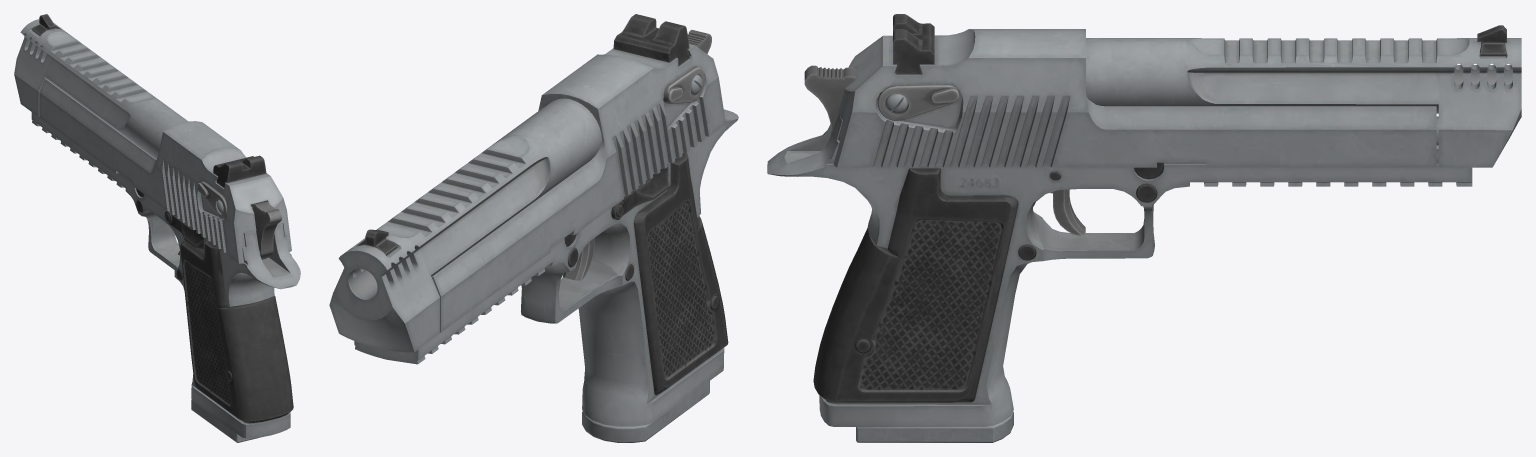
Rendered from gun_deagle.glb.
3 renders of one model, left to right at view 1: azimuth 30°, elevation 25°; view 2: azimuth 150°, elevation 25°; view 3: azimuth 270°, elevation 25°, orthographic. The views are drawn at different scales.
Visible parts, largest first — view 1: Slide, Grip, Barrel, Frame, Hammer, Ironsights Back, Slide Stop, Magazine, Safety, Ironsights Front; view 2: Barrel, Slide, Frame, Grip, Ironsights Back, Magazine, Slide Stop, Safety, Trigger, Ironsights Front; view 3: Slide, Barrel, Grip, Frame, Magazine, Ironsights Back, Safety, Hammer, FrameScews, Trigger, Ironsights Front.
Part boxes in pixels (left/top/right/bottom): Slide: left=39, top=78, right=291, bottom=263; Grip: left=180, top=241, right=293, bottom=422; Barrel: left=14, top=19, right=187, bottom=159; Frame: left=31, top=112, right=300, bottom=438; Hammer: left=252, top=201, right=282, bottom=259; Ironsights Back: left=213, top=155, right=266, bottom=188; Slide Stop: left=164, top=211, right=205, bottom=249; Magazine: left=191, top=207, right=260, bottom=442; Safety: left=197, top=181, right=227, bottom=219; Ironsights Front: left=32, top=14, right=61, bottom=35; Barrel: left=329, top=98, right=601, bottom=352; Slide: left=432, top=44, right=725, bottom=332; Frame: left=354, top=109, right=738, bottom=426; Grip: left=633, top=152, right=728, bottom=395; Ironsights Back: left=613, top=14, right=689, bottom=66; Magazine: left=582, top=381, right=709, bottom=442; Slide Stop: left=611, top=164, right=669, bottom=219; Safety: left=663, top=66, right=704, bottom=103; Trigger: left=562, top=238, right=594, bottom=281; Ironsights Front: left=356, top=229, right=397, bottom=255; Slide: left=833, top=29, right=1438, bottom=167; Barrel: left=1086, top=38, right=1521, bottom=167; Grip: left=813, top=168, right=1018, bottom=402; Frame: left=767, top=114, right=1472, bottom=426; Magazine: left=856, top=411, right=1013, bottom=442; Ironsights Back: left=893, top=14, right=934, bottom=74; Safety: left=877, top=84, right=959, bottom=120; Hammer: left=804, top=65, right=856, bottom=134; FrameScews: left=1018, top=162, right=1163, bottom=260; Trigger: left=1050, top=189, right=1085, bottom=235; Ironsights Front: left=1477, top=25, right=1506, bottom=56.
Bounding box in the file's own units: 0.0378 × 0.1696 × 0.289.
Materials: 6 (6 with a texture image).
